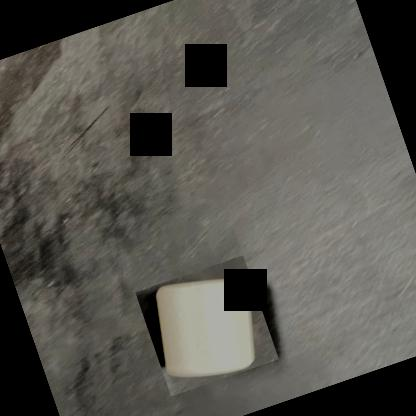white cylinder: (136, 255, 279, 396)
